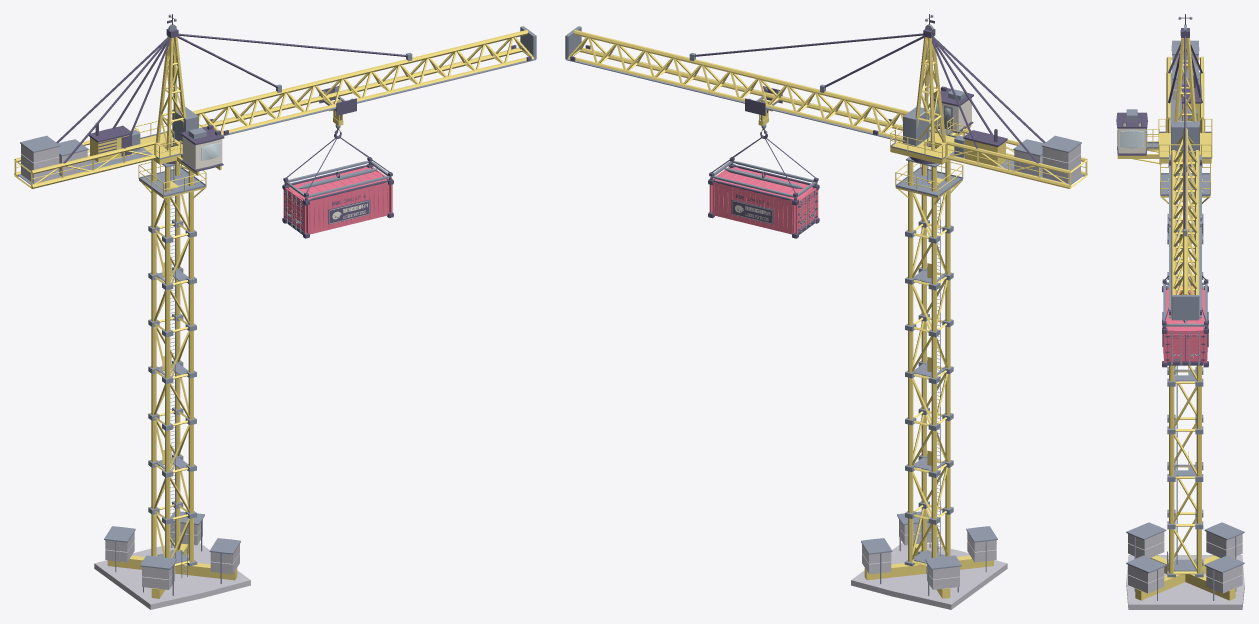
The model's file is crane.glb.
3 views of the same model, side by side, from view 1: azimuth 30°, elevation 25°; view 2: azimuth 150°, elevation 25°; view 3: azimuth 270°, elevation 25° (orthographic).
Parts seen in each view (by area): view 1: crane_mastChords, crane_jibChords, crane_mastBracing, crane_pad, crane_box, crane_jibLattice, crane_pendants, crane, crane_splicePlates, crane_towerHead, crane_counterJib, crane_decks (+5 smaller); view 2: crane_mastChords, crane_jibChords, crane_mastBracing, crane_pad, crane_box, crane_jibLattice, crane_pendants, crane, crane_counterJib, crane_towerHead, crane_splicePlates, crane_decks (+5 smaller); view 3: crane, crane_pad, crane_mastChords, crane_jibLattice, crane_jibChords, crane_mastBracing, crane_decks, crane_towerHead, crane_pendants, crane_jibRails, crane_splicePlates, crane_doorsF_load_20 (+23 smaller).
Part boxes in pixels (x1,y1,x2,y2): crane_mastChords: (151,159,193,562); crane_jibChords: (192,30,534,134); crane_mastBracing: (154,184,189,566); crane_pad: (94,542,250,609); crane_box: (288,167,389,234); crane_jibLattice: (197,37,532,131); crane_pendants: (56,33,407,163); crane: (105,519,239,592); crane_splicePlates: (148,220,196,524); crane_towerHead: (155,36,186,150); crane_counterJib: (14,128,155,188); crane_decks: (139,168,206,563); crane_mastChords: (908,159,950,562); crane_jibChords: (568,30,909,141); crane_mastBracing: (912,180,947,566); crane_pad: (851,542,1007,609); crane_box: (712,167,813,234); crane_jibLattice: (569,37,904,132); crane_pendants: (694,33,1045,163); crane: (862,519,996,595); crane_counterJib: (946,128,1087,188); crane_towerHead: (915,36,945,150); crane_splicePlates: (905,220,953,524); crane_decks: (895,168,962,563); crane: (1128,526,1242,600); crane_pad: (1126,555,1244,609); crane_mastChords: (1169,365,1201,573); crane_jibLattice: (1173,136,1197,294); crane_jibChords: (1171,128,1199,317); crane_mastBracing: (1173,198,1197,574); crane_decks: (1161,174,1209,571); crane_towerHead: (1174,38,1196,121); crane_pendants: (1168,36,1202,228); crane_jibRails: (1169,154,1201,318); crane_splicePlates: (1167,224,1203,529); crane_doorsF_load_20: (1167,334,1202,361).
Size of the model in its own units: 42.92 by 45.5 by 9.26.
